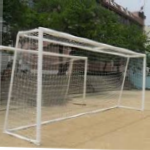goals: (4, 26, 148, 145)
